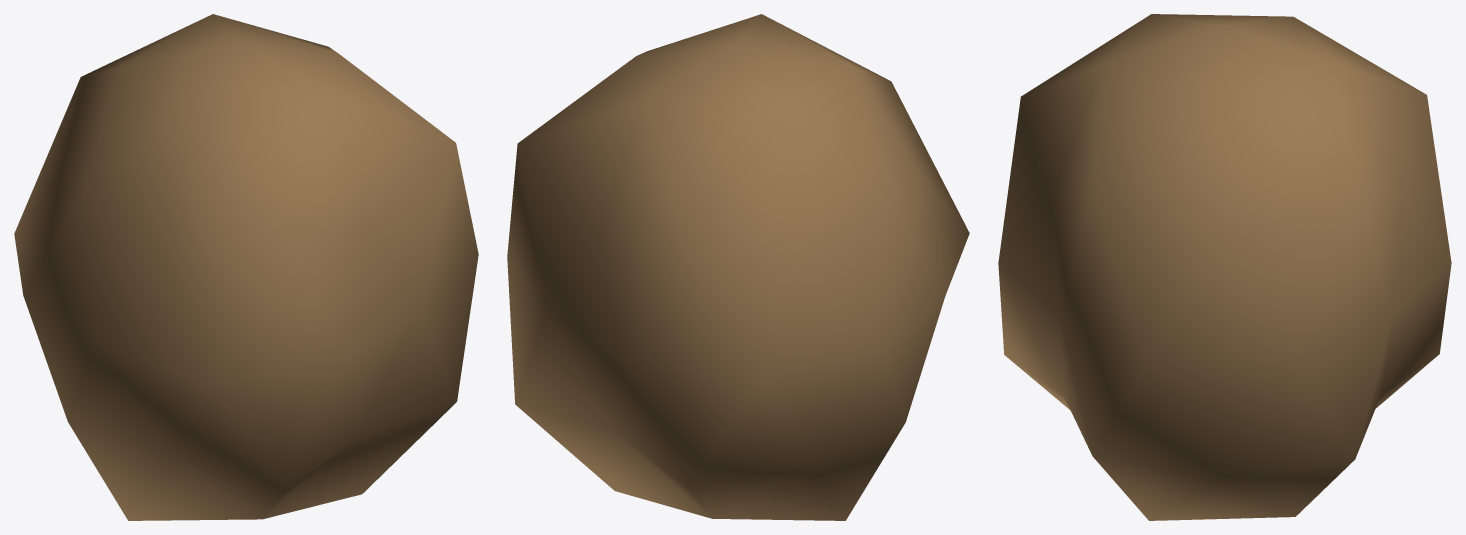
File: ceviz.glb
3 renders of one model, left to right at view 1: azimuth 30°, elevation 25°; view 2: azimuth 150°, elevation 25°; view 3: azimuth 270°, elevation 25°, orthographic.
Parts seen in each view (by area): view 1: Ceviz; view 2: Ceviz; view 3: Ceviz.
Part boxes in pixels (bbox=[...]): Ceviz: bbox=[14, 14, 478, 520]; Ceviz: bbox=[507, 14, 969, 520]; Ceviz: bbox=[998, 14, 1451, 520].
Size of the model in its own units: 0.871 by 1.03 by 0.8826.
